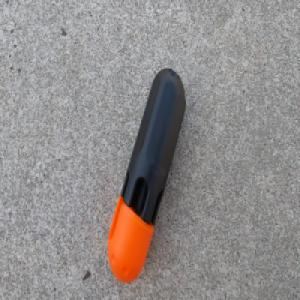PlasticPart: (106, 66, 186, 285)
